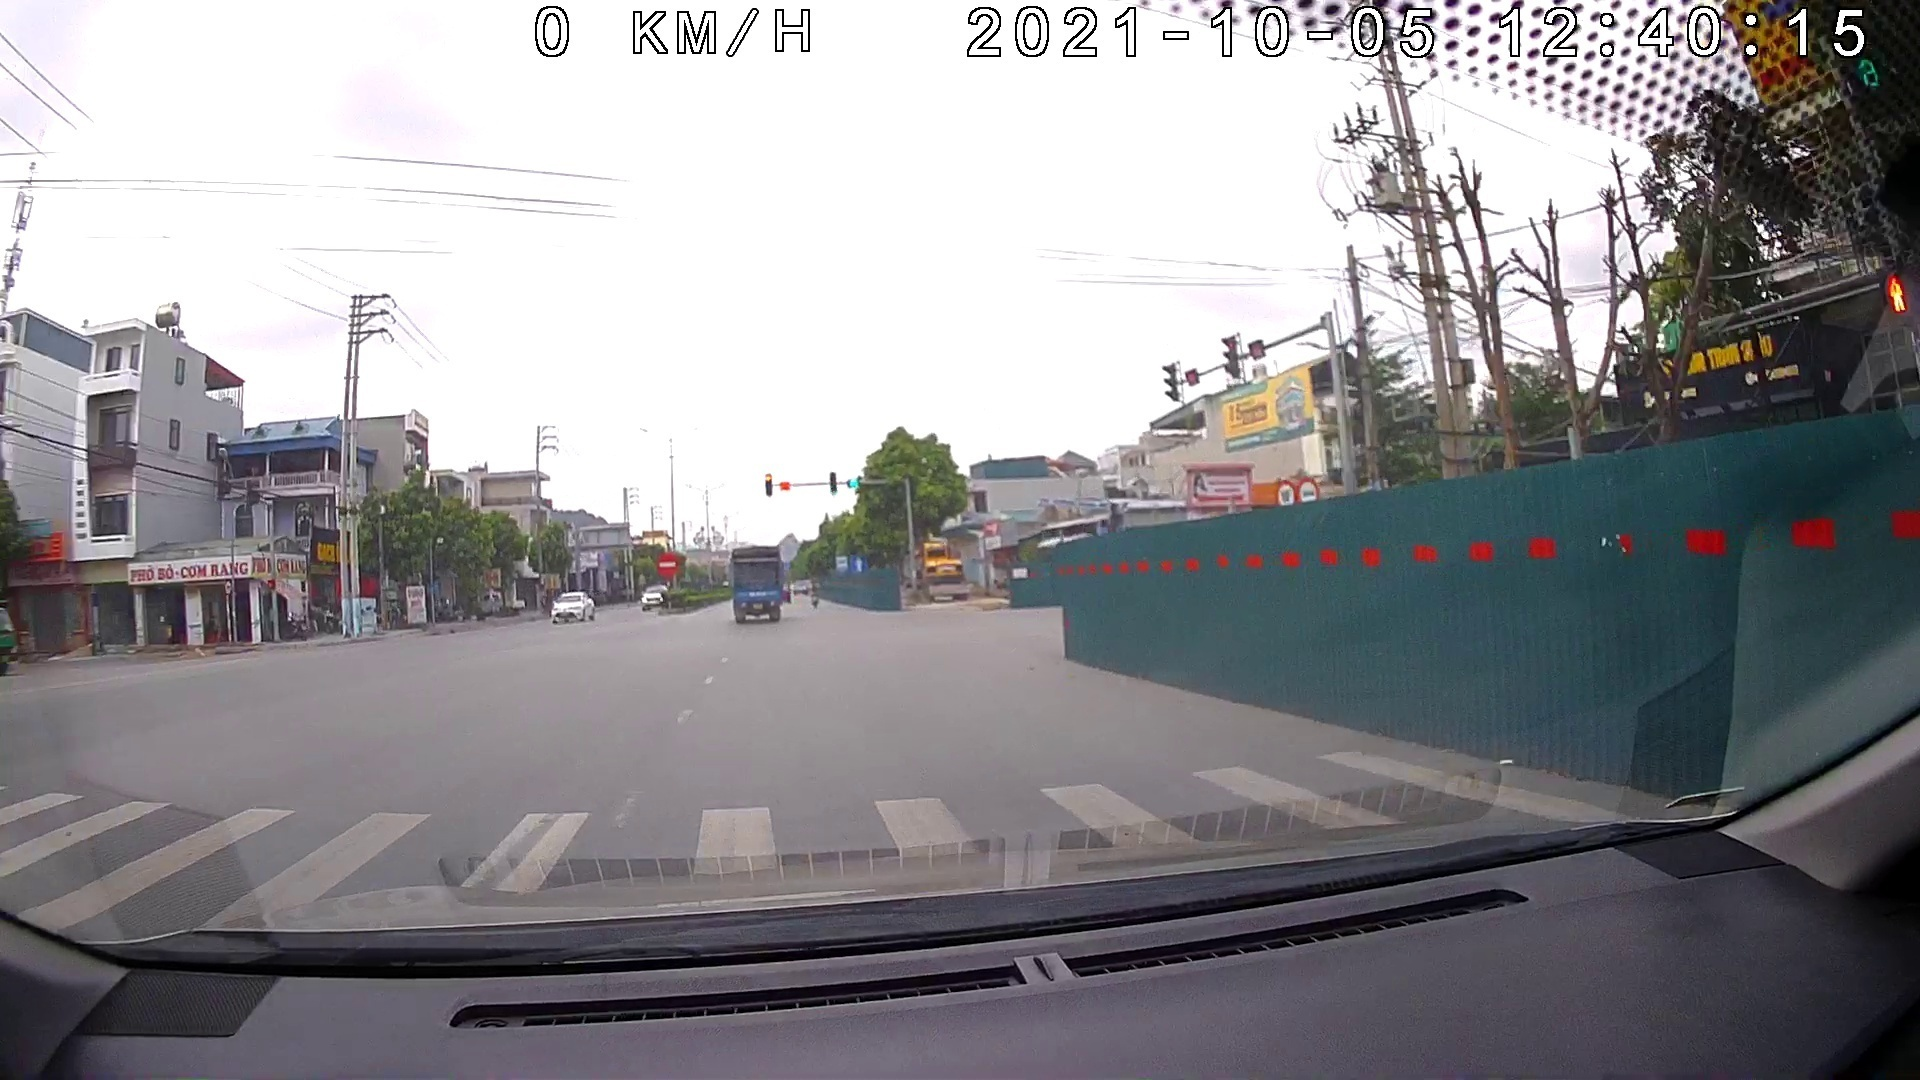Bien khac: (1296, 473, 1317, 502), (1273, 480, 1294, 504), (831, 551, 851, 570), (852, 551, 864, 568)
Cam di nguoc chieu: (655, 551, 678, 575)
